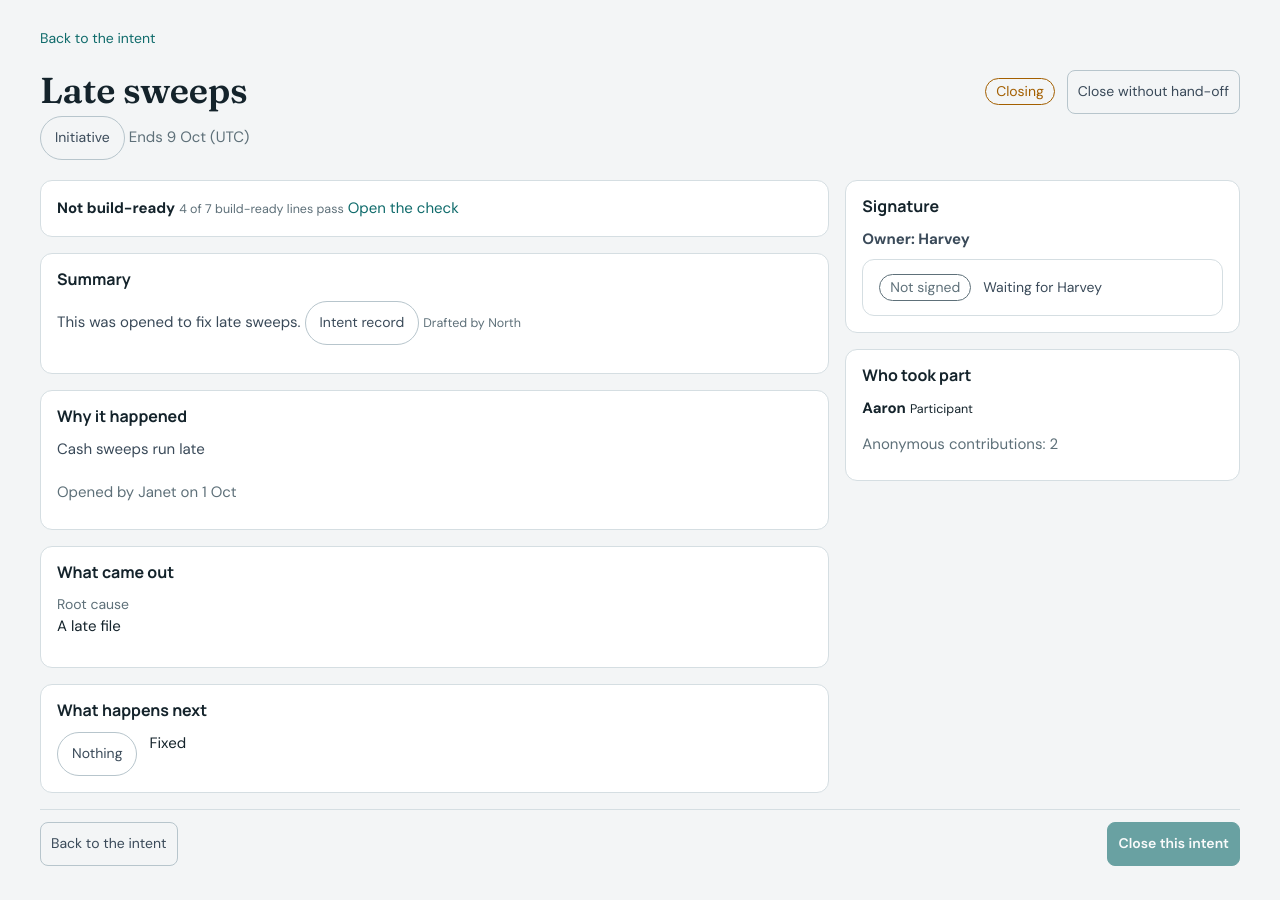
Test: Closure screen › a refusal in the hand-off dialog shows the server's sentence
The image size is (1280, 900).
Click the button "Close without hand-off": {"x": 1153, "y": 92} [1067,70,1240,114]
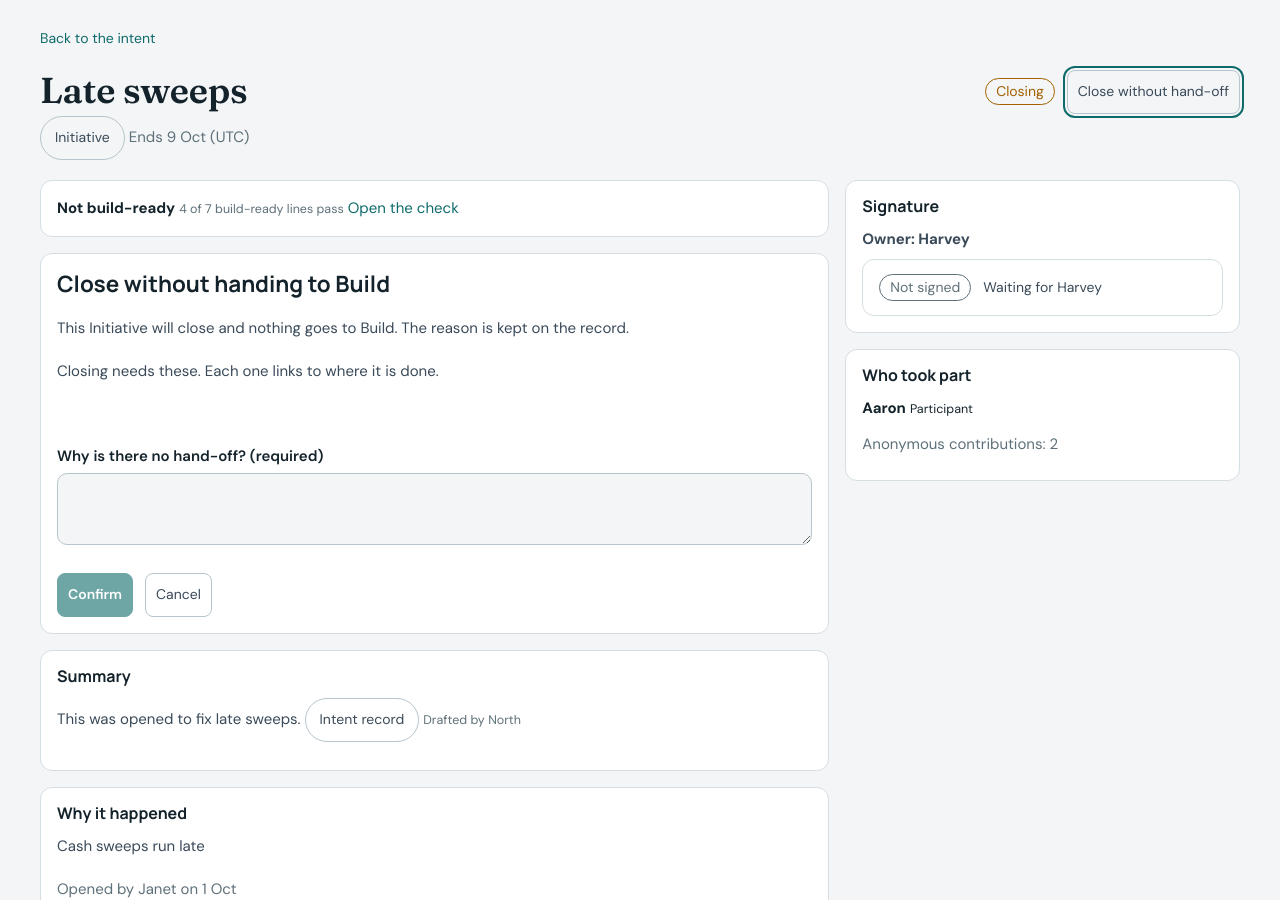
In the text box labelled "Why is there no hand-off? (required)": {"x": 435, "y": 509} [57,473,812,545], type "Charter only"
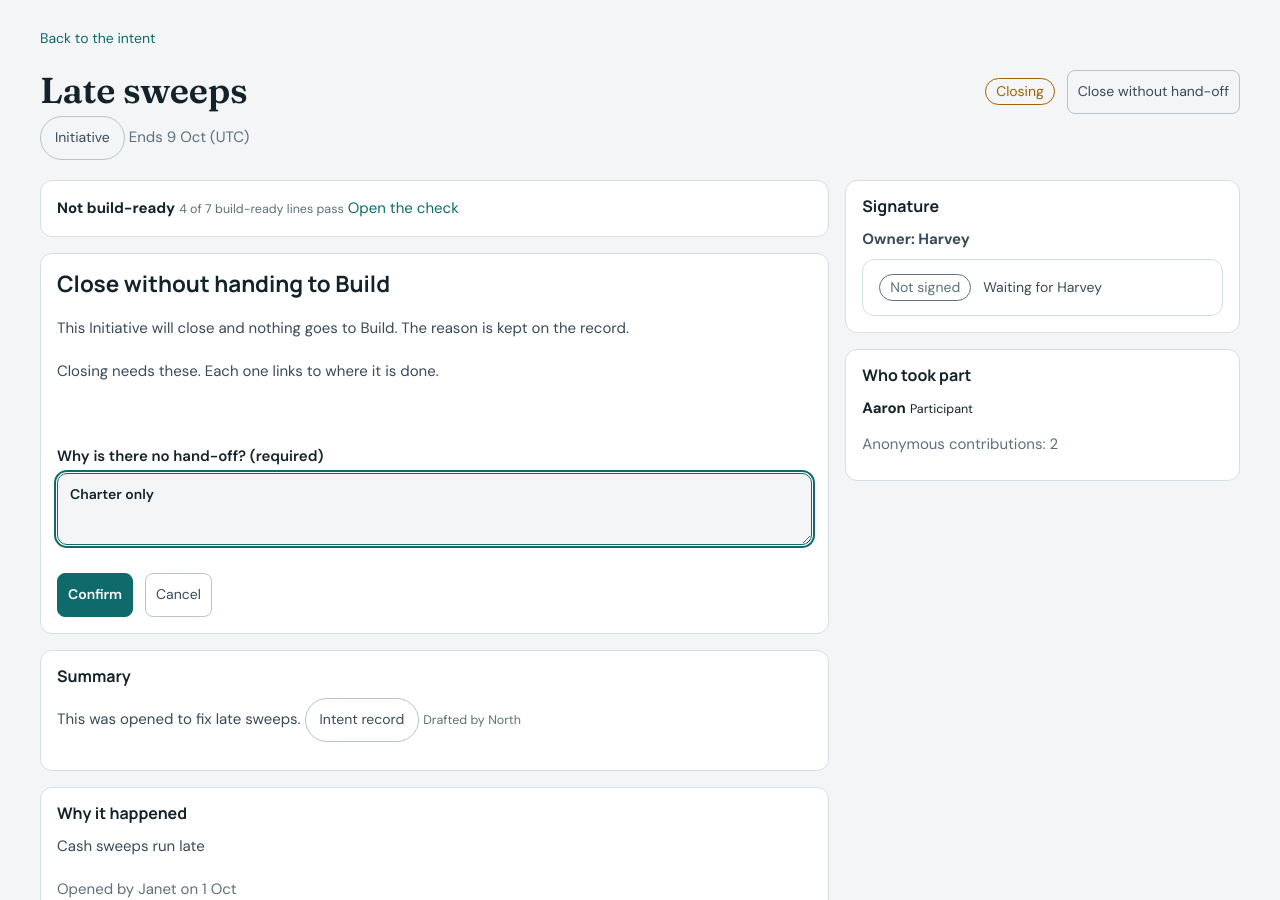
Click the button "Confirm": {"x": 95, "y": 595} [57,573,133,617]
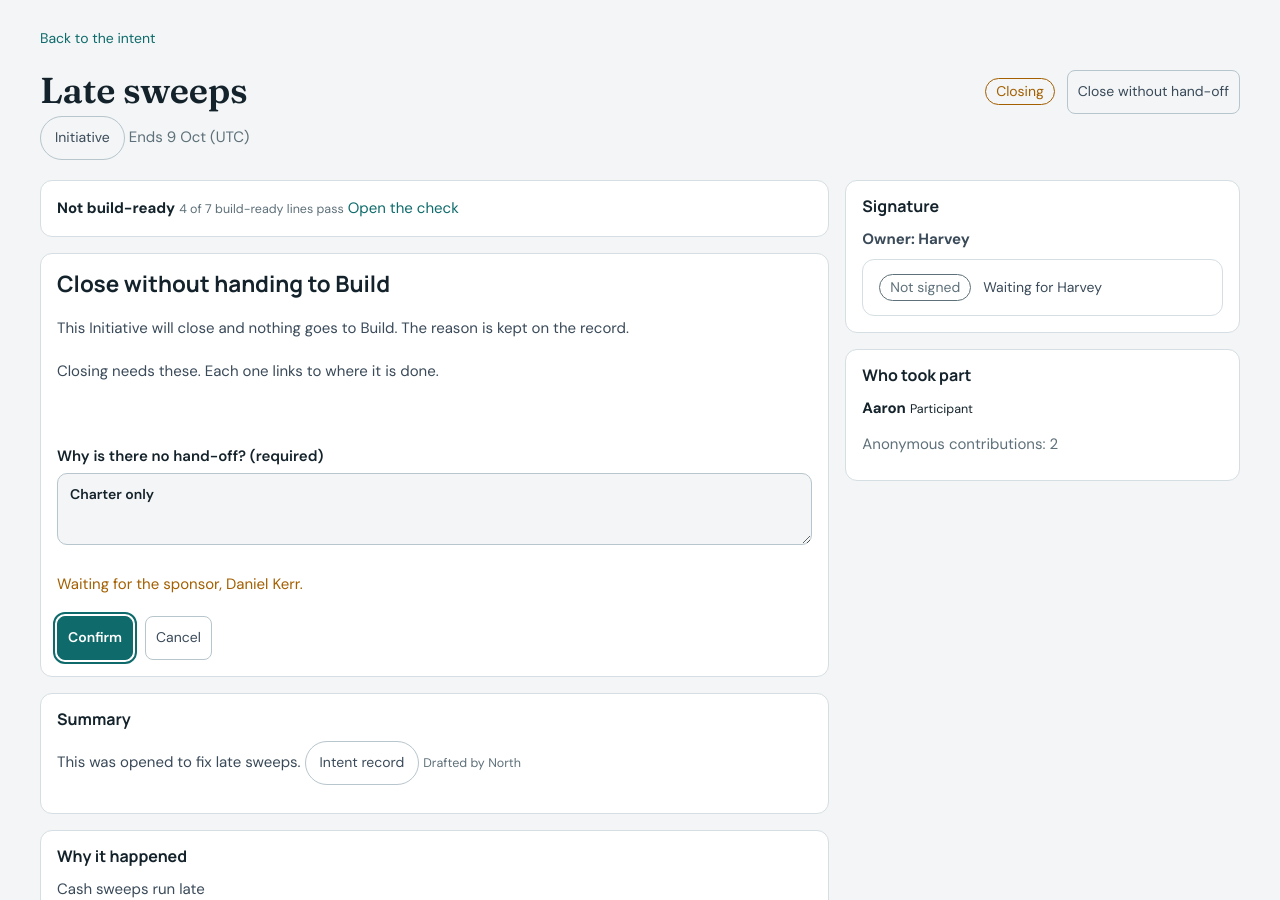
Result: the text "Waiting for the sponsor, Daniel Kerr." is shown at [57,574,303,594]
